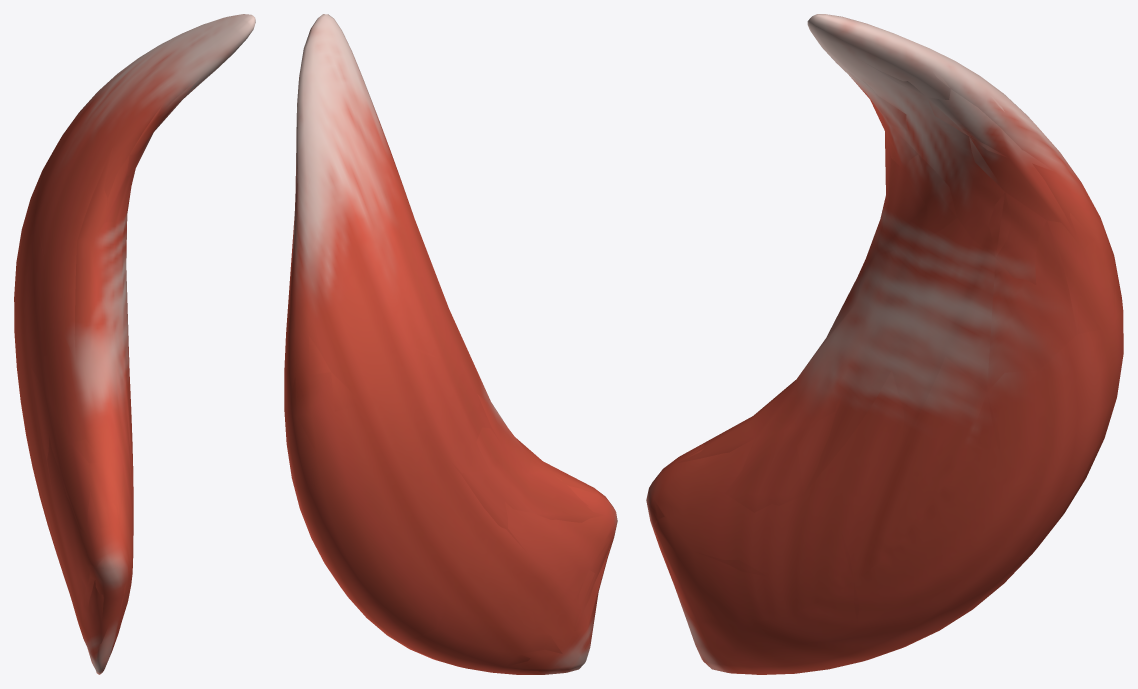
File: R Semimembranosus.fbx
3 renders of one model, left to right at view 1: azimuth 30°, elevation 25°; view 2: azimuth 150°, elevation 25°; view 3: azimuth 270°, elevation 25°, orthographic. The views are drawn at different scales.
Visible parts, largest first — view 1: R Semimembranosus, R Semimembranosus low; view 2: R Semimembranosus, R Semimembranosus low; view 3: R Semimembranosus, R Semimembranosus low.
Part boxes in pixels (x1,y1,x2,y2): R Semimembranosus: [14, 14, 255, 674]; R Semimembranosus low: [25, 54, 200, 674]; R Semimembranosus: [284, 14, 616, 674]; R Semimembranosus low: [286, 134, 617, 674]; R Semimembranosus: [646, 14, 1123, 674]; R Semimembranosus low: [653, 60, 1123, 624].
Bounding box in the file's own units: 8.63 × 22.25 × 12.32.
